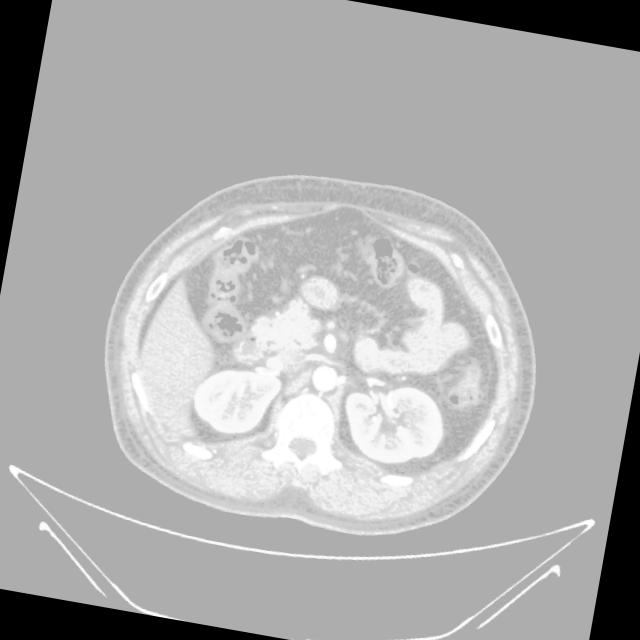NORMAL: (77, 153, 560, 549)
